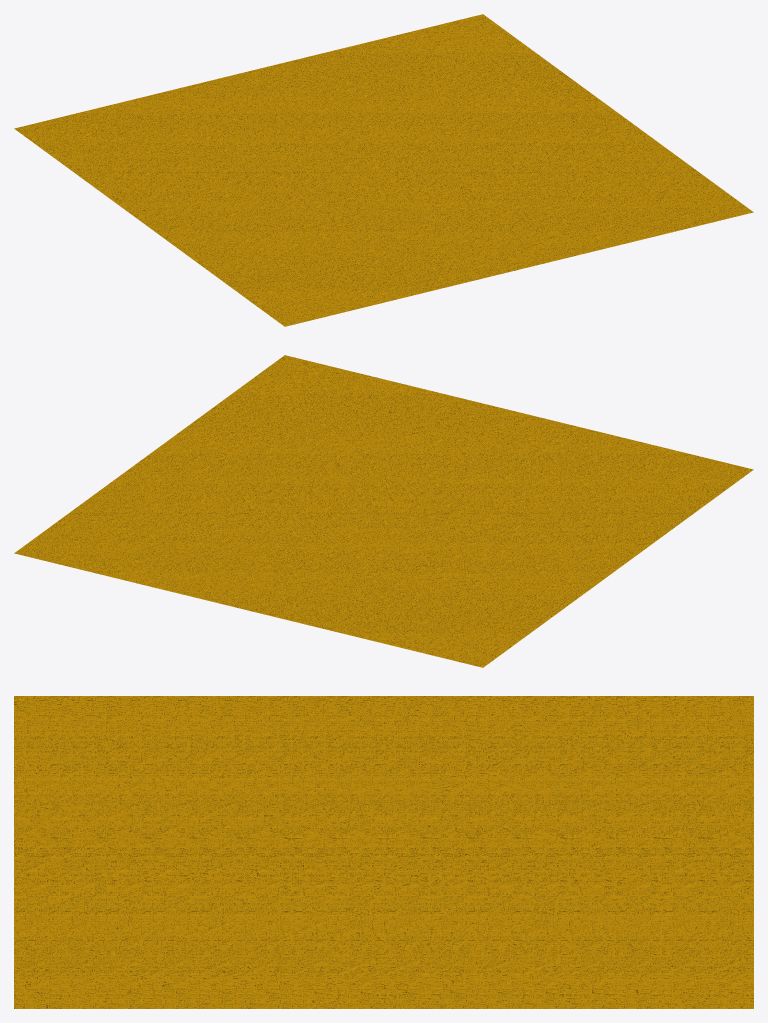
Rendered from ground_explodedV.dae.
3 renders of one model, top to bottom at view 1: azimuth 30°, elevation 25°; view 2: azimuth 150°, elevation 25°; view 3: azimuth 270°, elevation 25°, orthographic. The views are drawn at different scales.
Parts seen in each view (by area): view 1: SketchUp; view 2: SketchUp; view 3: SketchUp.
Part boxes in pixels (left/top/right/bottom): SketchUp: left=14, top=14, right=753, bottom=326; SketchUp: left=14, top=355, right=753, bottom=667; SketchUp: left=14, top=696, right=753, bottom=1008.
Size of the model in its own units: 32 by 32 by 1.18.
